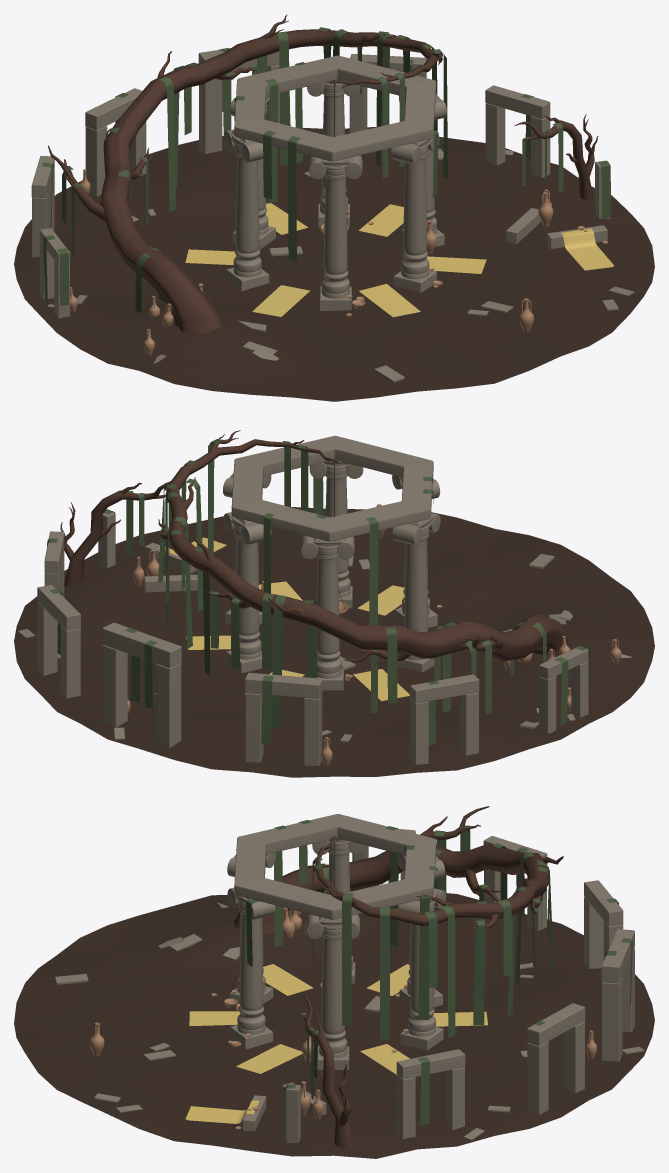
File: scene_oracle.fbx
3 views of the same model, one above another, from view 1: azimuth 30°, elevation 25°; view 2: azimuth 150°, elevation 25°; view 3: azimuth 270°, elevation 25° (orthographic).
Visible parts, largest first — view 1: floorplane, polySurface101, pTorus1, column5, column3, column4, arch13, arch11, arch12, column6, polySurface32, arch9 (+21 smaller); view 2: floorplane, polySurface101, pTorus1, arch12, arch11, arch5, column2, column3, column6, arch9, polySurface32, column4 (+26 smaller); view 3: floorplane, pTorus1, polySurface101, arch5, column4, arch12, column1, arch13, arch11, column6, polySurface32, column3 (+20 smaller).
Part boxes in pixels (left/top/right/bottom): floorplane: left=14, top=127, right=654, bottom=401; polySurface101: left=48, top=14, right=442, bottom=333; pTorus1: left=234, top=55, right=436, bottom=161; column5: left=309, top=155, right=362, bottom=310; column3: left=223, top=129, right=269, bottom=291; column4: left=391, top=135, right=439, bottom=292; arch13: left=485, top=85, right=550, bottom=177; arch11: left=85, top=88, right=146, bottom=196; arch12: left=198, top=48, right=279, bottom=153; column6: left=307, top=80, right=360, bottom=227; polySurface32: left=514, top=114, right=598, bottom=199; arch9: left=39, top=228, right=70, bottom=318; floorplane: left=14, top=507, right=654, bottom=777; polySurface101: left=158, top=430, right=571, bottom=665; pTorus1: left=231, top=435, right=433, bottom=541; arch12: left=102, top=622, right=181, bottom=747; arch11: left=245, top=672, right=322, bottom=765; arch5: left=37, top=585, right=80, bottom=698; column2: left=301, top=535, right=354, bottom=690; column3: left=392, top=512, right=440, bottom=672; column6: left=223, top=512, right=271, bottom=673; arch9: left=539, top=646, right=588, bottom=733; polySurface32: left=60, top=481, right=170, bottom=586; column4: left=309, top=460, right=363, bottom=608; floorplane: left=14, top=885, right=654, bottom=1158; pTorus1: left=234, top=814, right=436, bottom=919; polySurface101: left=234, top=806, right=563, bottom=988; arch5: left=527, top=1003, right=585, bottom=1114; column4: left=227, top=887, right=275, bottom=1049; arch12: left=601, top=929, right=634, bottom=1061; column1: left=306, top=914, right=360, bottom=1069; arch13: left=396, top=1049, right=465, bottom=1139; arch11: left=584, top=880, right=623, bottom=968; column6: left=398, top=888, right=446, bottom=1050; polySurface32: left=303, top=992, right=352, bottom=1148; column3: left=312, top=838, right=365, bottom=983.
Bounding box in the file's own units: 1373 × 460 × 1373.
